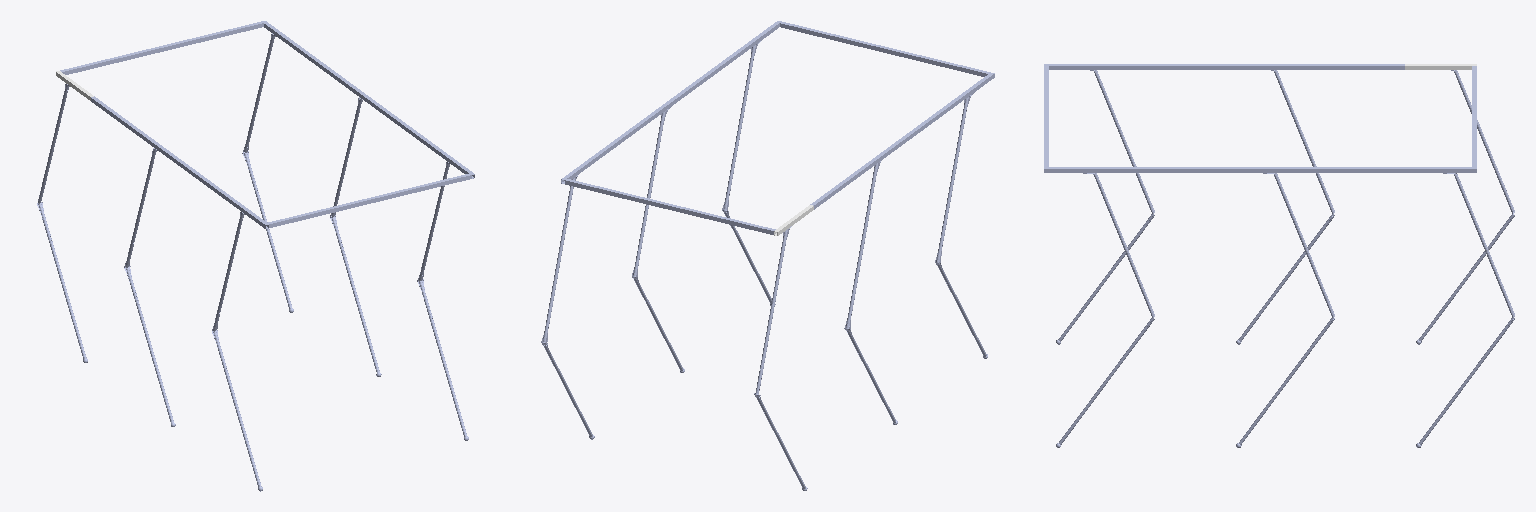
--- Render facts (derived) ---
3 views of the same robot in one strip: view 1: azimuth 30°, elevation 25°; view 2: azimuth 150°, elevation 25°; view 3: azimuth 270°, elevation 25° (orthographic).
Robot: robo_assemblyone — 50 links, 49 joints (12 revolute, 37 fixed); root link mid_right_chassis; default pose: all joints at 0.
Visible links, largest first — view 1: front_H_chassis, rear_H_chassis, front_right_chassis, mid_right_chassis, front_left_chassis, mid_left_chassis, front_right_tube_L, front_left_tube_L, mid_left_tube_L, rear_right_tube_L, mid_right_tube_L, rear_left_tube_L; view 2: rear_H_chassis, front_H_chassis, mid_left_chassis, front_right_chassis, mid_right_chassis, front_left_chassis, rear_right_tube_U, mid_right_tube_U, front_right_tube_U, front_left_tube_U, rear_left_tube_U, mid_left_tube_U; view 3: front_left_chassis, mid_right_chassis, mid_left_chassis, front_right_chassis, mid_left_tube_L, front_left_tube_L, rear_left_tube_L, mid_right_tube_L, front_left_tube_U, front_right_tube_L, rear_right_tube_L, rear_left_tube_U (+1 smaller).
Boxes of the visible links, bbox=[...] form: front_H_chassis: bbox=[268, 174, 470, 227]; rear_H_chassis: bbox=[60, 21, 263, 74]; front_right_chassis: bbox=[178, 160, 268, 228]; mid_right_chassis: bbox=[91, 96, 180, 164]; front_left_chassis: bbox=[384, 110, 474, 178]; mid_left_chassis: bbox=[297, 46, 386, 114]; front_right_tube_L: bbox=[213, 331, 261, 486]; front_left_tube_L: bbox=[419, 281, 466, 436]; mid_left_tube_L: bbox=[332, 217, 379, 372]; rear_right_tube_L: bbox=[38, 203, 86, 358]; mid_right_tube_L: bbox=[126, 267, 173, 422]; rear_left_tube_L: bbox=[244, 153, 291, 308]; rear_H_chassis: bbox=[565, 179, 775, 234]; front_H_chassis: bbox=[780, 22, 990, 76]; mid_left_chassis: bbox=[598, 87, 691, 157]; front_right_chassis: bbox=[901, 73, 994, 143]; mid_right_chassis: bbox=[810, 139, 903, 209]; front_left_chassis: bbox=[688, 21, 781, 90]; rear_right_tube_U: bbox=[755, 229, 787, 393]; mid_right_tube_U: bbox=[846, 163, 877, 327]; front_right_tube_U: bbox=[936, 97, 968, 261]; front_left_tube_U: bbox=[724, 45, 755, 209]; rear_left_tube_U: bbox=[543, 178, 574, 342]; mid_left_tube_U: bbox=[633, 111, 665, 275]; front_left_chassis: bbox=[1044, 167, 1224, 172]; mid_right_chassis: bbox=[1225, 64, 1404, 69]; mid_left_chassis: bbox=[1225, 167, 1404, 172]; front_right_chassis: bbox=[1044, 64, 1224, 69]; mid_left_tube_L: bbox=[1239, 317, 1334, 444]; front_left_tube_L: bbox=[1059, 317, 1154, 444]; rear_left_tube_L: bbox=[1419, 317, 1514, 444]; mid_right_tube_L: bbox=[1239, 214, 1334, 341]; front_left_tube_U: bbox=[1094, 173, 1154, 316]; front_right_tube_L: bbox=[1058, 214, 1154, 341]; rear_right_tube_L: bbox=[1419, 214, 1514, 340]; rear_left_tube_U: bbox=[1454, 173, 1514, 316].
Size in the robot's own frame: 2.1 by 3.92 by 2.57 metres.
Meshes: 50 distinct files referenced, 49 mesh visuals loaded (49 binary STL); not drawn: 1 (reference not matched to a file when rendering).

robot.urdf — robo_assemblyone:
<?xml version="1.0" encoding="utf-8"?>
<!-- This URDF was automatically created by SolidWorks to URDF Exporter! Originally created by Stephen Brawner ([email redacted]) 
     Commit Version: 1.6.0-4-g7f85cfe  Build Version: 1.6.7995.38578
     For more information, please see http://wiki.ros.org/sw_urdf_exporter -->
<robot
  name="robo_assemblyone">
  <link
    name="mid_right_chassis">
    <inertial>
      <origin
        xyz="-1.01904958862805 0.450918359101978 2.5500260202222"
        rpy="0 0 0" />
      <mass
        value="0.664323169148694" />
      <inertia
        ixx="0.124497537684337"
        ixy="1.03440379130301E-07"
        ixz="3.29978112885733E-09"
        iyy="0.000272415804836353"
        iyz="1.06181136709898E-05"
        izz="0.124497811349337" />
    </inertial>
    <visual>
      <origin
        xyz="0 0 0"
        rpy="0 0 0" />
      <geometry>
        <mesh
          filename="package://robo_assemblyone/meshes/mid_right_chassis.STL" />
      </geometry>
      <material
        name="">
        <color
          rgba="0.792156862745098 0.819607843137255 0.933333333333333 1" />
      </material>
    </visual>
    <collision>
      <origin
        xyz="0 0 0"
        rpy="0 0 0" />
      <geometry>
        <mesh
          filename="package://robo_assemblyone/meshes/mid_right_chassis.STL" />
      </geometry>
    </collision>
  </link>
  <link
    name="mid_right_hinge_UU">
    <inertial>
      <origin
        xyz="-1.01905088535195 0.0593104196306042 2.52925907191912"
        rpy="0 0 0" />
      <mass
        value="0.0124075021216376" />
      <inertia
        ixx="2.15475302244514E-05"
        ixy="4.08560226235981E-09"
        ixz="3.50399838359902E-11"
        iyy="2.48420344050463E-06"
        iyz="4.38826489428306E-07"
        izz="2.39156461358389E-05" />
    </inertial>
    <visual>
      <origin
        xyz="0 0 0"
        rpy="0 0 0" />
      <geometry>
        <mesh
          filename="package://robo_assemblyone/meshes/mid_right_hinge_UU.STL" />
      </geometry>
      <material
        name="">
        <color
          rgba="0.792156862745098 0.819607843137255 0.933333333333333 1" />
      </material>
    </visual>
    <collision>
      <origin
        xyz="0 0 0"
        rpy="0 0 0" />
      <geometry>
        <mesh
          filename="package://robo_assemblyone/meshes/mid_right_hinge_UU.STL" />
      </geometry>
    </collision>
  </link>
  <joint
    name="mid_right_hinge_UU_j"
    type="fixed">
    <origin
      xyz="0 0 0"
      rpy="0 0 0" />
    <parent
      link="mid_right_chassis" />
    <child
      link="mid_right_hinge_UU" />
    <axis
      xyz="0 0 0" />
  </joint>
  <link
    name="mid_right_hinge_UL">
    <inertial>
      <origin
        xyz="-1.0188129526235 0.131925176611832 2.48445803928536"
        rpy="0 0 0" />
      <mass
        value="0.0149562464353173" />
      <inertia
        ixx="2.77382899483782E-05"
        ixy="6.53537754436471E-08"
        ixz="-1.41295041733475E-07"
        iyy="2.61494553327382E-05"
        iyz="9.67138676781449E-06"
        izz="6.47197939431066E-06" />
    </inertial>
    <visual>
      <origin
        xyz="0 0 0"
        rpy="0 0 0" />
      <geometry>
        <mesh
          filename="package://robo_assemblyone/meshes/mid_right_hinge_UL.STL" />
      </geometry>
      <material
        name="">
        <color
          rgba="0.792156862745098 0.819607843137255 0.933333333333333 1" />
      </material>
    </visual>
    <collision>
      <origin
        xyz="0 0 0"
        rpy="0 0 0" />
      <geometry>
        <mesh
          filename="package://robo_assemblyone/meshes/mid_right_hinge_UL.STL" />
      </geometry>
    </collision>
  </link>
  <joint
    name="mid_right_hinge_UL_j"
    type="revolute">
    <origin
      xyz="0 0 0"
      rpy="0 0 0" />
    <parent
      link="mid_right_hinge_UU" />
    <child
      link="mid_right_hinge_UL" />
    <axis
      xyz="1 0 0" />
    <limit
      lower="-0.5"
      upper="0.5"
      effort="100"
      velocity="0.5" />
  </joint>
  <link
    name="mid_right_tube_U">
    <inertial>
      <origin
        xyz="-1.01905295856905 0.364582967396966 1.86626920283355"
        rpy="0 0 0" />
      <mass
        value="0.182771131041912" />
      <inertia
        ixx="0.0288040348370685"
        ixy="1.02559621876794E-10"
        ixz="9.55764910249999E-10"
        iyy="0.025315686421915"
        iyz="0.00938951254741977"
        izz="0.00352488886753978" />
    </inertial>
    <visual>
      <origin
        xyz="0 0 0"
        rpy="0 0 0" />
      <geometry>
        <mesh
          filename="package://robo_assemblyone/meshes/mid_right_tube_U.STL" />
      </geometry>
      <material
        name="">
        <color
          rgba="0.792156862745098 0.819607843137255 0.933333333333333 1" />
      </material>
    </visual>
    <collision>
      <origin
        xyz="0 0 0"
        rpy="0 0 0" />
      <geometry>
        <mesh
          filename="package://robo_assemblyone/meshes/mid_right_tube_U.STL" />
      </geometry>
    </collision>
  </link>
  <joint
    name="mid_right_tube_U_j"
    type="fixed">
    <origin
      xyz="0 0 0"
      rpy="0 0 0" />
    <parent
      link="mid_right_hinge_UL" />
    <child
      link="mid_right_tube_U" />
    <axis
      xyz="0 0 0" />
  </joint>
  <link
    name="mid_right_hinge_LU">
    <inertial>
      <origin
        xyz="-1.01905131096578 0.590645617295134 1.25148513763438"
        rpy="0 0 0" />
      <mass
        value="0.0124080543656936" />
      <inertia
        ixx="2.15480311497022E-05"
        ixy="1.42460076220506E-09"
        ixz="-3.74261469196305E-09"
        iyy="2.16045137129991E-05"
        iyz="6.66316691649574E-06"
        izz="4.79656411004929E-06" />
    </inertial>
    <visual>
      <origin
        xyz="0 0 0"
        rpy="0 0 0" />
      <geometry>
        <mesh
          filename="package://robo_assemblyone/meshes/mid_right_hinge_LU.STL" />
      </geometry>
      <material
        name="">
        <color
          rgba="0.792156862745098 0.819607843137255 0.933333333333333 1" />
      </material>
    </visual>
    <collision>
      <origin
        xyz="0 0 0"
        rpy="0 0 0" />
      <geometry>
        <mesh
          filename="package://robo_assemblyone/meshes/mid_right_hinge_LU.STL" />
      </geometry>
    </collision>
  </link>
  <joint
    name="mid_right_hinge_LU_j"
    type="fixed">
    <origin
      xyz="0 0 0"
      rpy="0 0 0" />
    <parent
      link="mid_right_tube_U" />
    <child
      link="mid_right_hinge_LU" />
    <axis
      xyz="0 0 0" />
  </joint>
  <link
    name="mid_right_hinge_LL">
    <inertial>
      <origin
        xyz="-1.01881238906514 0.583362371971656 1.16058737016415"
        rpy="0 0 0" />
      <mass
        value="0.0149300100783799" />
      <inertia
        ixx="2.77317572144237E-05"
        ixy="-7.69471574354078E-08"
        ixz="-1.35726939401194E-07"
        iyy="2.22963751213896E-05"
        iyz="-1.24251025267636E-05"
        izz="1.03187746917861E-05" />
    </inertial>
    <visual>
      <origin
        xyz="0 0 0"
        rpy="0 0 0" />
      <geometry>
        <mesh
          filename="package://robo_assemblyone/meshes/mid_right_hinge_LL.STL" />
      </geometry>
      <material
        name="">
        <color
          rgba="0.792156862745098 0.819607843137255 0.933333333333333 1" />
      </material>
    </visual>
    <collision>
      <origin
        xyz="0 0 0"
        rpy="0 0 0" />
      <geometry>
        <mesh
          filename="package://robo_assemblyone/meshes/mid_right_hinge_LL.STL" />
      </geometry>
    </collision>
  </link>
  <joint
    name="mid_right_hinge_LL_j"
    type="revolute">
    <origin
      xyz="0 0 0"
      rpy="0 0 0" />
    <parent
      link="mid_right_hinge_LU" />
    <child
      link="mid_right_hinge_LL" />
    <axis
      xyz="-1 0 0" />
    <limit
      lower="-0.5"
      upper="0.5"
      effort="100"
      velocity="0.5" />
  </joint>
  <link
    name="mid_right_tube_L">
    <inertial>
      <origin
        xyz="-1.01905401462191 0.210107997709998 0.60238159804898"
        rpy="0 0 0" />
      <mass
        value="0.185067675197643" />
      <inertia
        ixx="0.0297078291883953"
        ixy="1.92332160328527E-09"
        ixz="-3.37902681066349E-10"
        iyy="0.0204240923796497"
        iyz="-0.0137570481405995"
        izz="0.00932114600736387" />
    </inertial>
    <visual>
      <origin
        xyz="0 0 0"
        rpy="0 0 0" />
      <geometry>
        <mesh
          filename="package://robo_assemblyone/meshes/mid_right_tube_L.STL" />
      </geometry>
      <material
        name="">
        <color
          rgba="0.792156862745098 0.819607843137255 0.933333333333333 1" />
      </material>
    </visual>
    <collision>
      <origin
        xyz="0 0 0"
        rpy="0 0 0" />
      <geometry>
        <mesh
          filename="package://robo_assemblyone/meshes/mid_right_tube_L.STL" />
      </geometry>
    </collision>
  </link>
  <joint
    name="mid_right_tube_L_j"
    type="fixed">
    <origin
      xyz="0 0 0"
      rpy="0 0 0" />
    <parent
      link="mid_right_hinge_LL" />
    <child
      link="mid_right_tube_L" />
    <axis
      xyz="0 0 0" />
  </joint>
  <link
    name="mid_right_base">
    <inertial>
      <origin
        xyz="-1.01905399999999 -0.182860047845495 0.0200524252681242"
        rpy="0 0 0" />
      <mass
        value="0.00526659250823883" />
      <inertia
        ixx="1.57167590827313E-06"
        ixy="7.54737487274673E-23"
        ixz="1.11846537621423E-22"
        iyy="1.66436600945583E-06"
        iyz="1.37354397779592E-07"
        izz="1.7752168511426E-06" />
    </inertial>
    <visual>
      <origin
        xyz="0 0 0"
        rpy="0 0 0" />
      <geometry>
        <mesh
          filename="package://robo_assemblyone/meshes/mid_right_base.STL" />
      </geometry>
      <material
        name="">
        <color
          rgba="0.792156862745098 0.819607843137255 0.933333333333333 1" />
      </material>
    </visual>
    <collision>
      <origin
        xyz="0 0 0"
        rpy="0 0 0" />
      <geometry>
        <mesh
          filename="package://robo_assemblyone/meshes/mid_right_base.STL" />
      </geometry>
    </collision>
  </link>
  <joint
    name="mid_right_base_j"
    type="fixed">
    <origin
      xyz="0 0 0"
      rpy="0 0 0" />
    <parent
      link="mid_right_tube_L" />
    <child
      link="mid_right_base" />
    <axis
      xyz="0 0 0" />
  </joint>
  <link
    name="front_right_chassis">
    <inertial>
      <origin
        xyz="-1.01904958862805 -1.04908164089802 2.5500260202222"
        rpy="0 0 0" />
      <mass
        value="0.664323169148694" />
      <inertia
        ixx="0.124497537684337"
        ixy="1.03440379130024E-07"
        ixz="3.29978112885837E-09"
        iyy="0.000272415804836353"
        iyz="1.06181136709899E-05"
        izz="0.124497811349337" />
    </inertial>
    <visual>
      <origin
        xyz="0 0 0"
        rpy="0 0 0" />
      <geometry>
        <mesh
          filename="package://robo_assemblyone/meshes/front_right_chassis.STL" />
      </geometry>
      <material
        name="">
        <color
          rgba="0.792156862745098 0.819607843137255 0.933333333333333 1" />
      </material>
    </visual>
    <collision>
      <origin
        xyz="0 0 0"
        rpy="0 0 0" />
      <geometry>
        <mesh
          filename="package://robo_assemblyone/meshes/front_right_chassis.STL" />
      </geometry>
    </collision>
  </link>
  <joint
    name="front_right_chassis_j"
    type="fixed">
    <origin
      xyz="0 0 0"
      rpy="0 0 0" />
    <parent
      link="mid_right_chassis" />
    <child
      link="front_right_chassis" />
    <axis
      xyz="0 0 0" />
  </joint>
  <link
    name="front_right_hinge_UU">
    <inertial>
      <origin
        xyz="3.2407 0.020741 -0.62865"
        rpy="0 0 0" />
      <mass
        value="0.012408" />
      <inertia
        ixx="2.4842E-06"
        ixy="4.3883E-07"
        ixz="-4.0856E-09"
        iyy="2.3916E-05"
        iyz="-3.504E-11"
        izz="2.1548E-05" />
    </inertial>
    <visual>
      <origin
        xyz="0 0 0"
        rpy="0 0 0" />
      <geometry>
        <mesh
          filename="package://robo_assemblyone/meshes/front_right_hinge_UU.STL" />
      </geometry>
      <material
        name="">
        <color
          rgba="0.79216 0.81961 0.93333 1" />
      </material>
    </visual>
    <collision>
      <origin
        xyz="0 0 0"
        rpy="0 0 0" />
      <geometry>
        <mesh
          filename="package://robo_assemblyone/meshes/front_right_hinge_UU.STL" />
      </geometry>
    </collision>
  </link>
  <joint
    name="front_right_hinge_UU_j"
    type="fixed">
    <origin
      xyz="-0.3904 1.8 2.54999999999993"
      rpy="-1.5707963267949 0 -1.5707963267949" />
    <parent
      link="front_right_chassis" />
    <child
      link="front_right_hinge_UU" />
    <axis
      xyz="0 0 0" />
  </joint>
  <link
    name="front_right_hinge_UL">
    <inertial>
      <origin
        xyz="-1.01881295276112 -1.36807481872377 2.48445802704719"
        rpy="0 0 0" />
      <mass
        value="0.0149562489565371" />
      <inertia
        ixx="2.7738305323787E-05"
        ixy="6.53538296215077E-08"
        ixz="-1.41295179953754E-07"
        iyy="2.61494686866927E-05"
        iyz="9.67139193493774E-06"
        izz="6.47198136297934E-06" />
    </inertial>
    <visual>
      <origin
        xyz="0 0 0"
        rpy="0 0 0" />
      <geometry>
        <mesh
          filename="package://robo_assemblyone/meshes/front_right_hinge_UL.STL" />
      </geometry>
      <material
        name="">
        <color
          rgba="0.792156862745098 0.819607843137255 0.933333333333333 1" />
      </material>
    </visual>
    <collision>
      <origin
        xyz="0 0 0"
        rpy="0 0 0" />
      <geometry>
        <mesh
          filename="package://robo_assemblyone/meshes/front_right_hinge_UL.STL" />
      </geometry>
    </collision>
  </link>
  <joint
    name="front_right_hinge_UL_j"
    type="revolute">
    <origin
      xyz="1.8 2.54999999999993 0.3904"
      rpy="1.5707963267949 -1.5707963267949 0" />
    <parent
      link="front_right_hinge_UU" />
    <child
      link="front_right_hinge_UL" />
    <axis
      xyz="1 0 0" />
    <limit
      lower="-0.5"
      upper="0.5"
      effort="100"
      velocity="0.5" />
  </joint>
  <link
    name="front_right_tube_U">
    <inertial>
      <origin
        xyz="-1.01905295856906 -1.13541703358023 1.86626920247823"
        rpy="0 0 0" />
      <mass
        value="0.182771131041884" />
      <inertia
        ixx="0.0288040348348786"
        ixy="1.02559635126669E-10"
        ixz="9.55764863532397E-10"
        iyy="0.0253156864476459"
        iyz="0.00938951251461396"
        izz="0.00352488883961894" />
    </inertial>
    <visual>
      <origin
        xyz="0 0 0"
        rpy="0 0 0" />
      <geometry>
        <mesh
          filename="package://robo_assemblyone/meshes/front_right_tube_U.STL" />
      </geometry>
      <material
        name="">
        <color
          rgba="0.792156862745098 0.819607843137255 0.933333333333333 1" />
      </material>
    </visual>
    <collision>
      <origin
        xyz="0 0 0"
        rpy="0 0 0" />
      <geometry>
        <mesh
          filename="package://robo_assemblyone/meshes/front_right_tube_U.STL" />
      </geometry>
    </collision>
  </link>
  <joint
    name="front_right_tube_U_j"
    type="fixed">
    <origin
      xyz="0 0 0"
      rpy="0 0 0" />
    <parent
      link="front_right_hinge_UL" />
    <child
      link="front_right_tube_U" />
    <axis
      xyz="0 0 0" />
  </joint>
  <link
    name="front_right_hinge_LU">
    <inertial>
      <origin
        xyz="-1.0191 -0.90935 1.2515"
        rpy="0 0 0" />
      <mass
        value="0.012408" />
      <inertia
        ixx="2.1548E-05"
        ixy="1.4246E-09"
        ixz="-3.7426E-09"
        iyy="2.1605E-05"
        iyz="6.6632E-06"
        izz="4.7966E-06" />
    </inertial>
    <visual>
      <origin
        xyz="0 0 0"
        rpy="0 0 0" />
      <geometry>
        <mesh
          filename="package://robo_assemblyone/meshes/front_right_hinge_LU.STL" />
      </geometry>
      <material
        name="">
        <color
          rgba="0.79216 0.81961 0.93333 1" />
      </material>
    </visual>
    <collision>
      <origin
        xyz="0 0 0"
        rpy="0 0 0" />
      <geometry>
        <mesh
          filename="package://robo_assemblyone/meshes/front_right_hinge_LU.STL" />
      </geometry>
    </collision>
  </link>
  <joint
    name="front_right_hinge_LU_j"
    type="fixed">
    <origin
      xyz="0 0 0"
      rpy="0 0 0" />
    <parent
      link="front_right_tube_U" />
    <child
      link="front_right_hinge_LU" />
    <axis
      xyz="0 0 0" />
  </joint>
  <link
    name="front_right_hinge_LL">
    <inertial>
      <origin
        xyz="-1.01881238895647 -0.916637629379715 1.16058737041912"
        rpy="0 0 0" />
      <mass
        value="0.0149300118627485" />
      <inertia
        ixx="2.7731757510046E-05"
        ixy="-7.69471635966757E-08"
        ixz="-1.35726947664422E-07"
        iyy="2.22963747944102E-05"
        iyz="-1.24251026830661E-05"
        izz="1.03187743356159E-05" />
    </inertial>
    <visual>
      <origin
        xyz="0 0 0"
        rpy="0 0 0" />
      <geometry>
        <mesh
          filename="package://robo_assemblyone/meshes/front_right_hinge_LL.STL" />
      </geometry>
      <material
        name="">
        <color
          rgba="0.792156862745098 0.819607843137255 0.933333333333333 1" />
      </material>
    </visual>
    <collision>
      <origin
        xyz="0 0 0"
        rpy="0 0 0" />
      <geometry>
        <mesh
          filename="package://robo_assemblyone/meshes/front_right_hinge_LL.STL" />
      </geometry>
    </collision>
  </link>
  <joint
    name="front_right_hinge_LL_j"
    type="revolute">
    <origin
      xyz="0 0 0"
      rpy="0 0 0" />
    <parent
      link="front_right_hinge_LU" />
    <child
      link="front_right_hinge_LL" />
    <axis
      xyz="-1 0 0" />
    <limit
      lower="-0.5"
      upper="0.5"
      effort="100"
      velocity="0.5" />
  </joint>
  <link
    name="front_right_tube_L">
    <inertial>
      <origin
        xyz="-1.01905401462191 -1.2898920051266 0.602381597899897"
        rpy="0 0 0" />
      <mass
        value="0.185067675197643" />
      <inertia
        ixx="0.0297078291872728"
        ixy="1.92332160380997E-09"
        ixz="-3.37902688132913E-10"
        iyy="0.0204240923383626"
        iyz="-0.0137570481564283"
        izz="0.0093211460475284" />
    </inertial>
    <visual>
      <origin
        xyz="0 0 0"
        rpy="0 0 0" />
      <geometry>
        <mesh
          filename="package://robo_assemblyone/meshes/front_right_tube_L.STL" />
      </geometry>
      <material
        name="">
        <color
          rgba="0.792156862745098 0.819607843137255 0.933333333333333 1" />
      </material>
    </visual>
    <collision>
      <origin
        xyz="0 0 0"
        rpy="0 0 0" />
      <geometry>
        <mesh
          filename="package://robo_assemblyone/meshes/front_right_tube_L.STL" />
      </geometry>
    </collision>
  </link>
  <joint
    name="front_right_tube_L_j"
    type="fixed">
    <origin
      xyz="0 0 0"
      rpy="0 0 0" />
    <parent
      link="front_right_hinge_LL" />
    <child
      link="front_right_tube_L" />
    <axis
      xyz="0 0 0" />
  </joint>
  <link
    name="front_right_base">
    <inertial>
      <origin
        xyz="-1.019054 -1.68286005182839 0.0200524252697623"
        rpy="0 0 0" />
      <mass
        value="0.00526659250823869" />
      <inertia
        ixx="1.57167590827308E-06"
        ixy="1.6735813200145E-23"
        ixz="2.47803902844208E-23"
        iyy="1.66436600986032E-06"
        iyz="1.37354397942838E-07"
        izz="1.77521685073805E-06" />
    </inertial>
    <visual>
      <origin
        xyz="0 0 0"
        rpy="0 0 0" />
      <geometry>
        <mesh
          filename="package://robo_assemblyone/meshes/front_right_base.STL" />
      </geometry>
      <material
        name="">
        <color
          rgba="0.792156862745098 0.819607843137255 0.933333333333333 1" />
      </material>
    </visual>
    <collision>
      <origin
        xyz="0 0 0"
        rpy="0 0 0" />
      <geometry>
        <mesh
          filename="package://robo_assemblyone/meshes/front_right_base.STL" />
      </geometry>
    </collision>
  </link>
  <joint
    name="front_right_base_j"
    type="fixed">
    <origin
      xyz="0 0 0"
      rpy="0 0 0" />
    <parent
      link="front_right_tube_L" />
    <child
      link="front_right_base" />
    <axis
      xyz="0 0 0" />
  </joint>
  <link
    name="front_H_chassis">
    <inertial>
      <origin
        xyz="3.33066907387547E-15 -1.78095 2.54999999999993"
        rpy="0 0 0" />
      <mass
        value="0.887094999999992" />
      <inertia
        ixx="0.000363660529397912"
        ixy="3.51367122001287E-19"
        ixz="-1.59026852454419E-17"
        iyy="0.29588016359803"
        iyz="-2.07539418893581E-20"
        izz="0.29588016359803" />
    </inertial>
    <visual>
      <origin
        xyz="0 0 0"
        rpy="0 0 0" />
      <geometry>
        <mesh
          filename="package://robo_assemblyone/meshes/front_H_chassis.STL" />
      </geometry>
      <material
        name="">
        <color
          rgba="0.792156862745098 0.819607843137255 0.933333333333333 1" />
      </material>
    </visual>
    <collision>
      <origin
        xyz="0 0 0"
        rpy="0 0 0" />
      <geometry>
        <mesh
          filename="package://robo_assemblyone/meshes/front_H_chassis.STL" />
      </geometry>
    </collision>
  </link>
  <joint
    name="front_H_chassis_j"
    type="fixed">
    <origin
      xyz="0 0 0"
      rpy="0 0 0" />
    <parent
      link="front_right_chassis" />
    <child
      link="front_H_chassis" />
    <axis
      xyz="0 0 0" />
  </joint>
  <link
    name="front_left_chassis">
    <inertial>
      <origin
        xyz="1.0191 -1.0491 2.55"
        rpy="0 0 0" />
      <mass
        value="0.66432" />
      <inertia
        ixx="0.1245"
        ixy="1.0344E-07"
        ixz="3.2998E-09"
        iyy="0.00027242"
        iyz="1.0618E-05"
        izz="0.1245" />
    </inertial>
    <visual>
      <origin
        xyz="0 0 0"
        rpy="0 0 0" />
      <geometry>
        <mesh
          filename="package://robo_assemblyone/meshes/front_left_chassis.STL" />
      </geometry>
      <material
        name="">
        <color
          rgba="0.79216 0.81961 0.93333 1" />
      </material>
    </visual>
    <collision>
      <origin
        xyz="0 0 0"
        rpy="0 0 0" />
      <geometry>
        <mesh
          filename="package://robo_assemblyone/meshes/front_left_chassis.STL" />
      </geometry>
    </collision>
  </link>
  <joint
    name="front_left_chassis_j"
    type="fixed">
    <origin
      xyz="0 0 0"
      rpy="0 0 0" />
    <parent
      link="front_H_chassis" />
    <child
      link="front_left_chassis" />
    <axis
      xyz="0 0 0" />
  </joint>
  <link
    name="front_left_hinge_UU">
    <inertial>
      <origin
        xyz="1.019 -1.4407 2.5293"
        rpy="0 0 0" />
      <mass
        value="0.012408" />
      <inertia
        ixx="2.1548E-05"
        ixy="4.0856E-09"
        ixz="3.504E-11"
        iyy="2.4842E-06"
        iyz="4.3883E-07"
        izz="2.3916E-05" />
    </inertial>
    <visual>
      <origin
        xyz="0 0 0"
        rpy="0 0 0" />
      <geometry>
        <mesh
          filename="package://robo_assemblyone/meshes/front_left_hinge_UU.STL" />
      </geometry>
      <material
        name="">
        <color
          rgba="0.79216 0.81961 0.93333 1" />
      </material>
    </visual>
    <collision>
      <origin
        xyz="0 0 0"
        rpy="0 0 0" />
      <geometry>
        <mesh
          filename="package://robo_assemblyone/meshes/front_left_hinge_UU.STL" />
      </geometry>
    </collision>
  </link>
  <joint
    name="front_left_hinge_UU_j"
    type="fixed">
    <origin
      xyz="0 0 0"
      rpy="0 0 0" />
    <parent
      link="front_left_chassis" />
    <child
      link="front_left_hinge_UU" />
    <axis
      xyz="0 0 0" />
  </joint>
  <link
    name="front_left_hinge_UL">
    <inertial>
      <origin
        xyz="1.01928704723881 -1.36807481872265 2.48445802704774"
        rpy="0 0 0" />
      <mass
        value="0.0149562489565401" />
      <inertia
        ixx="2.77383053237921E-05"
        ixy="6.53538296214575E-08"
        ixz="-1.41295179953754E-07"
        iyy="2.61494686867022E-05"
        iyz="9.67139193493422E-06"
        izz="6.47198136297507E-06" />
    </inertial>
    <visual>
      <origin
        xyz="0 0 0"
        rpy="0 0 0" />
      <geometry>
        <mesh
          filename="package://robo_assemblyone/meshes/front_left_hinge_UL.STL" />
      </geometry>
      <material
        name="">
        <color
          rgba="0.792156862745098 0.819607843137255 0.933333333333333 1" />
      </material>
    </visual>
    <collision>
      <origin
        xyz="0 0 0"
        rpy="0 0 0" />
      <geometry>
        <mesh
          filename="package://robo_assemblyone/meshes/front_left_hinge_UL.STL" />
      </geometry>
    </collision>
  </link>
  <joint
    name="front_left_hinge_UL_j"
    type="revolute">
    <origin
      xyz="0 0 0"
      rpy="0 0 0" />
    <parent
      link="front_left_hinge_UU" />
    <child
      link="front_left_hinge_UL" />
    <axis
      xyz="1 0 0" />
    <limit
      lower="-0.5"
      upper="0.5"
      effort="100"
      velocity="0.5" />
  </joint>
  <link
    name="front_left_tube_U">
    <inertial>
      <origin
        xyz="1.01904704143088 -1.13541703357928 1.86626920247869"
        rpy="0 0 0" />
      <mass
        value="0.182771131041863" />
      <inertia
        ixx="0.0288040348348771"
        ixy="1.02559629888989E-10"
        ixz="9.55764876122744E-10"
        iyy="0.0253156864476499"
        iyz="0.0093895125146074"
        izz="0.00352488883961341" />
    </inertial>
    <visual>
      <origin
        xyz="0 0 0"
        rpy="0 0 0" />
      <geometry>
        <mesh
          filename="package://robo_assemblyone/meshes/front_left_tube_U.STL" />
      </geometry>
      <material
        name="">
        <color
          rgba="0.792156862745098 0.819607843137255 0.933333333333333 1" />
      </material>
    </visual>
    <collision>
      <origin
        xyz="0 0 0"
        rpy="0 0 0" />
      <geometry>
        <mesh
          filename="package://robo_assemblyone/meshes/front_left_tube_U.STL" />
      </geometry>
    </collision>
  </link>
  <joint
    name="front_left_tube_U_j"
    type="fixed">
    <origin
      xyz="0 0 0"
      rpy="0 0 0" />
    <parent
      link="front_left_hinge_UL" />
    <child
      link="front_left_tube_U" />
    <axis
      xyz="0 0 0" />
  </joint>
  <link
    name="front_left_hinge_LU">
    <inertial>
      <origin
        xyz="1.01904868903418 -0.90935438458095 1.25148513693114"
        rpy="0 0 0" />
      <mass
        value="0.0124080543656926" />
      <inertia
        ixx="2.15480311497011E-05"
        ixy="1.42460075677455E-09"
        ixz="-3.7426146945005E-09"
        iyy="2.16045137326273E-05"
        iyz="6.6631668917379E-06"
        izz="4.79656409041984E-06" />
    </inertial>
    <visual>
      <origin
        xyz="0 0 0"
        rpy="0 0 0" />
      <geometry>
        <mesh
          filename="package://robo_assemblyone/meshes/front_left_hinge_LU.STL" />
      </geometry>
      <material
        name="">
        <color
          rgba="0.792156862745098 0.819607843137255 0.933333333333333 1" />
      </material>
    </visual>
    <collision>
      <origin
        xyz="0 0 0"
        rpy="0 0 0" />
      <geometry>
        <mesh
          filename="package://robo_assemblyone/meshes/front_left_hinge_LU.STL" />
      </geometry>
    </collision>
  </link>
  <joint
    name="front_left_hinge_LU_j"
    type="fixed">
    <origin
      xyz="0 0 0"
      rpy="0 0 0" />
    <parent
      link="front_left_tube_U" />
    <child
      link="front_left_hinge_LU" />
    <axis
      xyz="0 0 0" />
  </joint>
  <link
    name="front_left_hinge_LL">
    <inertial>
      <origin
        xyz="1.01928761104351 -0.916637629378995 1.16058737041962"
        rpy="0 0 0" />
      <mass
        value="0.0149300118627532" />
      <inertia
        ixx="2.77317575100516E-05"
        ixy="-7.69471635967437E-08"
        ixz="-1.35726947664432E-07"
        iyy="2.22963747944045E-05"
        iyz="-1.24251026830724E-05"
        izz="1.03187743356279E-05" />
    </inertial>
    <visual>
      <origin
        xyz="0 0 0"
        rpy="0 0 0" />
      <geometry>
        <mesh
          filename="package://robo_assemblyone/meshes/front_left_hinge_LL.STL" />
      </geometry>
      <material
        name="">
        <color
          rgba="0.792156862745098 0.819607843137255 0.933333333333333 1" />
      </material>
    </visual>
    <collision>
      <origin
        xyz="0 0 0"
        rpy="0 0 0" />
      <geometry>
        <mesh
          filename="package://robo_assemblyone/meshes/front_left_hinge_LL.STL" />
      </geometry>
    </collision>
  </link>
  <joint
    name="front_left_hinge_LL_j"
    type="revolute">
    <origin
      xyz="0 0 0"
      rpy="0 0 0" />
    <parent
      link="front_left_hinge_LU" />
    <child
      link="front_left_hinge_LL" />
    <axis
      xyz="-1 0 0" />
    <limit
      lower="-0.5"
      upper="0.5"
      effort="100"
      velocity="0.5" />
  </joint>
  <link
    name="front_left_tube_L">
    <inertial>
      <origin
        xyz="1.01904598537803 -1.28989200512613 0.60238159790054"
        rpy="0 0 0" />
      <mass
        value="0.185067675197645" />
      <inertia
        ixx="0.0297078291872729"
        ixy="1.92332160620766E-09"
        ixz="-3.37902684214976E-10"
        iyy="0.0204240923383516"
        iyz="-0.013757048156433"
        izz="0.00932114604753944" />
    </inertial>
    <visual>
      <origin
        xyz="0 0 0"
        rpy="0 0 0" />
      <geometry>
        <mesh
          filename="package://robo_assemblyone/meshes/front_left_tube_L.STL" />
      </geometry>
      <material
        name="">
        <color
          rgba="0.792156862745098 0.819607843137255 0.933333333333333 1" />
      </material>
    </visual>
    <collision>
      <origin
        xyz="0 0 0"
        rpy="0 0 0" />
      <geometry>
        <mesh
          filename="package://robo_assemblyone/meshes/front_left_tube_L.STL" />
      </geometry>
    </collision>
  </link>
  <joint
    name="front_left_tube_L_j"
    type="fixed">
    <origin
      xyz="0 0 0"
      rpy="0 0 0" />
    <parent
      link="front_left_hinge_LL" />
    <child
      link="front_left_tube_L" />
    <axis
      xyz="0 0 0" />
  </joint>
  <link
    name="front_left_base">
    <inertial>
      <origin
        xyz="1.01904599999994 -1.68286005182795 0.0200524252708765"
        rpy="0 0 0" />
      <mass
        value="0.00526659250823878" />
      <inertia
        ixx="1.57167590827311E-06"
        ixy="6.98764716172851E-23"
        ixz="1.03549426819276E-22"
        iyy="1.66436600986045E-06"
        iyz="1.37354397942877E-07"
        izz="1.77521685073795E-06" />
    </inertial>
    <visual>
      <origin
        xyz="0 0 0"
        rpy="0 0 0" />
      <geometry>
        <mesh
          filename="package://robo_assemblyone/meshes/front_left_base.STL" />
      </geometry>
      <material
        name="">
        <color
          rgba="0.792156862745098 0.819607843137255 0.933333333333333 1" />
      </material>
    </visual>
    <collision>
      <origin
        xyz="0 0 0"
        rpy="0 0 0" />
      <geometry>
        <mesh
          filename="package://robo_assemblyone/meshes/front_left_base.STL" />
      </geometry>
    </collision>
  </link>
  <joint
    name="front_left_base_j"
    type="fixed">
    <origin
      xyz="0 0 0"
      rpy="0 0 0" />
    <parent
      link="front_left_tube_L" />
    <child
      link="front_left_base" />
    <axis
      xyz="0 0 0" />
  </joint>
  <link
    name="mid_left_chassis">
    <inertial>
      <origin
        xyz="1.01905041137195 0.450918359101979 2.5500260202222"
        rpy="0 0 0" />
      <mass
        value="0.664323169148684" />
      <inertia
        ixx="0.124497537684335"
        ixy="1.03440379130001E-07"
        ixz="3.29978112884356E-09"
        iyy="0.000272415804836349"
        iyz="1.06181136709885E-05"
        izz="0.124497811349336" />
    </inertial>
    <visual>
      <origin
        xyz="0 0 0"
        rpy="0 0 0" />
      <geometry>
        <mesh
          filename="package://robo_assemblyone/meshes/mid_left_chassis.STL" />
      </geometry>
      <material
        name="">
        <color
          rgba="0.792156862745098 0.819607843137255 0.933333333333333 1" />
      </material>
    </visual>
    <collision>
      <origin
        xyz="0 0 0"
        rpy="0 0 0" />
      <geometry>
        <mesh
          filename="package://robo_assemblyone/meshes/mid_left_chassis.STL" />
      </geometry>
    </collision>
  </link>
  <joint
    name="mid_left_chassis_j"
    type="fixed">
    <origin
      xyz="0 0 0"
      rpy="0 0 0" />
    <parent
      link="front_left_chassis" />
    <child
      link="mid_left_chassis" />
    <axis
      xyz="0 0 0" />
  </joint>
  <link
    name="mid_left_hinge_UU">
    <inertial>
      <origin
        xyz="1.01904911464804 0.0593104196306042 2.52925907191911"
        rpy="0 0 0" />
      <mass
        value="0.0124075021216381" />
      <inertia
        ixx="2.15475302244532E-05"
        ixy="4.08560226277614E-09"
        ixz="3.50399838246493E-11"
        iyy="2.48420344050468E-06"
        iyz="4.38826489428074E-07"
        izz="2.3915646135841E-05" />
    </inertial>
    <visual>
      <origin
        xyz="0 0 0"
        rpy="0 0 0" />
      <geometry>
        <mesh
          filename="package://robo_assemblyone/meshes/mid_left_hinge_UU.STL" />
      </geometry>
      <material
        name="">
        <color
          rgba="0.792156862745098 0.819607843137255 0.933333333333333 1" />
      </material>
    </visual>
    <collision>
      <origin
        xyz="0 0 0"
        rpy="0 0 0" />
      <geometry>
        <mesh
          filename="package://robo_assemblyone/meshes/mid_left_hinge_UU.STL" />
      </geometry>
    </collision>
  </link>
  <joint
    name="mid_left_hinge_UU_j"
    type="fixed">
    <origin
      xyz="0 0 0"
      rpy="0 0 0" />
    <parent
      link="mid_left_chassis" />
    <child
      link="mid_left_hinge_UU" />
    <axis
      xyz="0 0 0" />
  </joint>
  <link
    name="mid_left_hinge_UL">
    <inertial>
      <origin
        xyz="1.01928704723888 0.13192518127716 2.4844580270478"
        rpy="0 0 0" />
      <mass
        value="0.0149562489565409" />
      <inertia
        ixx="2.77383053237923E-05"
        ixy="6.53538296214323E-08"
        ixz="-1.41295179953746E-07"
        iyy="2.61494686867024E-05"
        iyz="9.6713919349343E-06"
        izz="6.4719813629752E-06" />
    </inertial>
    <visual>
      <origin
        xyz="0 0 0"
        rpy="0 0 0" />
      <geometry>
        <mesh
          filename="package://robo_assemblyone/meshes/mid_left_hinge_UL.STL" />
      </geometry>
      <material
        name="">
        <color
          rgba="0.792156862745098 0.819607843137255 0.933333333333333 1" />
      </material>
    </visual>
    <collision>
      <origin
        xyz="0 0 0"
        rpy="0 0 0" />
      <geometry>
        <mesh
          filename="package://robo_assemblyone/meshes/mid_left_hinge_UL.STL" />
      </geometry>
    </collision>
  </link>
  <joint
    name="mid_left_hinge_UL_j"
    type="revolute">
    <origin
      xyz="0 0 0"
      rpy="0 0 0" />
    <parent
      link="mid_left_hinge_UU" />
    <child
      link="mid_left_hinge_UL" />
    <axis
      xyz="1 0 0" />
    <limit
      lower="-0.5"
      upper="0.5"
      effort="100"
      velocity="0.5" />
  </joint>
  <link
    name="mid_left_tube_U">
    <inertial>
      <origin
        xyz="1.01904704143094 0.364582966420517 1.86626920247879"
        rpy="0 0 0" />
      <mass
        value="0.182771131041847" />
      <inertia
        ixx="0.0288040348348749"
        ixy="1.02559631457837E-10"
        ixz="9.55764872211818E-10"
        iyy="0.025315686447648"
        iyz="0.00938951251460667"
        izz="0.00352488883961306" />
    </inertial>
    <visual>
      <origin
        xyz="0 0 0"
        rpy="0 0 0" />
      <geometry>
        <mesh
          filename="package://robo_assemblyone/meshes/mid_left_tube_U.STL" />
      </geometry>
      <material
        name="">
        <color
          rgba="0.792156862745098 0.819607843137255 0.933333333333333 1" />
      </material>
    </visual>
    <collision>
      <origin
        xyz="0 0 0"
        rpy="0 0 0" />
      <geometry>
        <mesh
          filename="package://robo_assemblyone/meshes/mid_left_tube_U.STL" />
      </geometry>
    </collision>
  </link>
  <joint
    name="mid_left_tube_U_j"
    type="fixed">
    <origin
      xyz="0 0 0"
      rpy="0 0 0" />
    <parent
      link="mid_left_hinge_UL" />
    <child
      link="mid_left_tube_U" />
    <axis
      xyz="0 0 0" />
  </joint>
  <link
    name="mid_left_hinge_LU">
    <inertial>
      <origin
        xyz="1.01904868903421 0.590645615418862 1.25148513693118"
        rpy="0 0 0" />
      <mass
        value="0.0124080543656932" />
      <inertia
        ixx="2.15480311497013E-05"
        ixy="1.42460075676472E-09"
        ixz="-3.74261469425976E-09"
        iyy="2.16045137326279E-05"
        iyz="6.66316689173787E-06"
        izz="4.79656409042013E-06" />
    </inertial>
    <visual>
      <origin
        xyz="0 0 0"
        rpy="0 0 0" />
      <geometry>
        <mesh
          filename="package://robo_assemblyone/meshes/mid_left_hinge_LU.STL" />
      </geometry>
      <material
        name="">
        <color
          rgba="0.792156862745098 0.819607843137255 0.933333333333333 1" />
      </material>
    </visual>
    <collision>
      <origin
        xyz="0 0 0"
        rpy="0 0 0" />
      <geometry>
        <mesh
          filename="package://robo_assemblyone/meshes/mid_left_hinge_LU.STL" />
      </geometry>
    </collision>
  </link>
  <joint
    name="mid_left_hinge_LU_j"
    type="fixed">
    <origin
      xyz="0 0 0"
      rpy="0 0 0" />
    <parent
      link="mid_left_tube_U" />
    <child
      link="mid_left_hinge_LU" />
    <axis
      xyz="0 0 0" />
  </joint>
  <link
    name="mid_left_hinge_LL">
    <inertial>
      <origin
        xyz="1.01928761104353 0.583362370620837 1.16058737041962"
        rpy="0 0 0" />
      <mass
        value="0.0149300118627508" />
      <inertia
        ixx="2.77317575100478E-05"
        ixy="-7.69471635969107E-08"
        ixz="-1.35726947664714E-07"
        iyy="2.22963747944019E-05"
        iyz="-1.24251026830717E-05"
        izz="1.03187743356258E-05" />
    </inertial>
    <visual>
      <origin
        xyz="0 0 0"
        rpy="0 0 0" />
      <geometry>
        <mesh
          filename="package://robo_assemblyone/meshes/mid_left_hinge_LL.STL" />
      </geometry>
      <material
        name="">
        <color
          rgba="0.792156862745098 0.819607843137255 0.933333333333333 1" />
      </material>
    </visual>
    <collision>
      <origin
        xyz="0 0 0"
        rpy="0 0 0" />
      <geometry>
        <mesh
          filename="package://robo_assemblyone/meshes/mid_left_hinge_LL.STL" />
      </geometry>
    </collision>
  </link>
  <joint
    name="mid_left_hinge_LL_j"
    type="revolute">
    <origin
      xyz="0 0 0"
      rpy="0 0 0" />
    <parent
      link="mid_left_hinge_LU" />
    <child
      link="mid_left_hinge_LL" />
    <axis
      xyz="-1 0 0" />
    <limit
      lower="-0.5"
      upper="0.5"
      effort="100"
      velocity="0.5" />
  </joint>
  <link
    name="mid_left_tube_L">
    <inertial>
      <origin
        xyz="1.01904598537809 0.210107994873732 0.602381597900553"
        rpy="0 0 0" />
      <mass
        value="0.185067675197624" />
      <inertia
        ixx="0.0297078291872714"
        ixy="1.92332161057931E-09"
        ixz="-3.37902678304202E-10"
        iyy="0.0204240923383506"
        iyz="-0.0137570481564323"
        izz="0.00932114604753906" />
    </inertial>
    <visual>
      <origin
        xyz="0 0 0"
        rpy="0 0 0" />
      <geometry>
        <mesh
          filename="package://robo_assemblyone/meshes/mid_left_tube_L.STL" />
      </geometry>
      <material
        name="">
        <color
          rgba="0.792156862745098 0.819607843137255 0.933333333333333 1" />
      </material>
    </visual>
    <collision>
      <origin
        xyz="0 0 0"
        rpy="0 0 0" />
      <geometry>
        <mesh
          filename="package://robo_assemblyone/meshes/mid_left_tube_L.STL" />
      </geometry>
    </collision>
  </link>
  <joint
    name="mid_left_tube_L_j"
    type="fixed">
    <origin
      xyz="0 0 0"
      rpy="0 0 0" />
    <parent
      link="mid_left_hinge_LL" />
    <child
      link="mid_left_tube_L" />
    <axis
      xyz="0 0 0" />
  </joint>
  <link
    name="mid_left_base">
    <inertial>
      <origin
        xyz="1.019046 -0.182860051828272 0.0200524252706238"
        rpy="0 0 0" />
      <mass
        value="0.00526659250823878" />
      <inertia
        ixx="1.57167590827311E-06"
        ixy="6.98764716172851E-23"
        ixz="1.03549426819276E-22"
        iyy="1.66436600986045E-06"
        iyz="1.37354397942877E-07"
        izz="1.77521685073795E-06" />
    </inertial>
    <visual>
      <origin
        xyz="0 0 0"
        rpy="0 0 0" />
      <geometry>
        <mesh
          filename="package://robo_assemblyone/meshes/mid_left_base.STL" />
      </geometry>
      <material
        name="">
        <color
          rgba="0.792156862745098 0.819607843137255 0.933333333333333 1" />
      </material>
    </visual>
    <collision>
      <origin
        xyz="0 0 0"
        rpy="0 0 0" />
      <geometry>
        <mesh
          filename="package://robo_assemblyone/meshes/mid_left_base.STL" />
      </geometry>
    </collision>
  </link>
  <joint
    name="mid_left_base_j"
    type="fixed">
    <origin
      xyz="0 0 0"
      rpy="0 0 0" />
    <parent
      link="mid_left_tube_L" />
    <child
      link="mid_left_base" />
    <axis
      xyz="0 0 0" />
  </joint>
  <link
    name="rear_left_chassis">
    <inertial>
      <origin
        xyz="1.01905103075279 1.50060706291822 2.5500651974849"
        rpy="0 0 0" />
      <mass
        value="0.26513041914869" />
      <inertia
        ixx="0.00799926371863007"
        ixy="-1.96224566100888E-08"
        ixz="3.31048764448459E-09"
        iyy="0.000108767889226285"
        iyz="2.83410622335786E-06"
        izz="0.00799953806067319" />
    </inertial>
    <visual>
      <origin
        xyz="0 0 0"
        rpy="0 0 0" />
      <geometry>
        <mesh
          filename="package://robo_assemblyone/meshes/rear_left_chassis.STL" />
      </geometry>
      <material
        name="">
        <color
          rgba="0.792156862745098 0.819607843137255 0.933333333333333 1" />
      </material>
    </visual>
    <collision>
      <origin
        xyz="0 0 0"
        rpy="0 0 0" />
      <geometry>
        <mesh
          filename="package://robo_assemblyone/meshes/rear_left_chassis.STL" />
      </geometry>
    </collision>
  </link>
  <joint
    name="rear_left_chassis_j"
    type="fixed">
    <origin
      xyz="0 0 0"
      rpy="0 0 0" />
    <parent
      link="mid_left_chassis" />
    <child
      link="rear_left_chassis" />
    <axis
      xyz="0 0 0" />
  </joint>
  <link
    name="rear_left_hinge_UU">
    <inertial>
      <origin
        xyz="1.01904911464804 1.5593104196306 2.52925907191911"
        rpy="0 0 0" />
      <mass
        value="0.0124075021216377" />
      <inertia
        ixx="2.15475302244526E-05"
        ixy="4.08560226169684E-09"
        ixz="3.50399839464629E-11"
        iyy="2.48420344050472E-06"
        iyz="4.38826489428027E-07"
        izz="2.39156461358404E-05" />
    </inertial>
    <visual>
      <origin
        xyz="0 0 0"
        rpy="0 0 0" />
      <geometry>
        <mesh
          filename="package://robo_assemblyone/meshes/rear_left_hinge_UU.STL" />
      </geometry>
      <material
        name="">
        <color
          rgba="0.792156862745098 0.819607843137255 0.933333333333333 1" />
      </material>
    </visual>
    <collision>
      <origin
        xyz="0 0 0"
        rpy="0 0 0" />
      <geometry>
        <mesh
          filename="package://robo_assemblyone/meshes/rear_left_hinge_UU.STL" />
      </geometry>
    </collision>
  </link>
  <joint
    name="rear_left_hinge_UU_j"
    type="fixed">
    <origin
      xyz="0 0 0"
      rpy="0 0 0" />
    <parent
      link="rear_left_chassis" />
    <child
      link="rear_left_hinge_UU" />
    <axis
      xyz="0 0 0" />
  </joint>
  <link
    name="rear_left_hinge_UL">
    <inertial>
      <origin
        xyz="1.01928704723888 1.63192518127715 2.48445802704798"
        rpy="0 0 0" />
      <mass
        value="0.014956248956542" />
      <inertia
        ixx="2.77383053237938E-05"
        ixy="6.53538296214963E-08"
        ixz="-1.41295179953914E-07"
        iyy="2.61494686867039E-05"
        iyz="9.67139193493482E-06"
        izz="6.47198136297561E-06" />
    </inertial>
    <visual>
      <origin
        xyz="0 0 0"
        rpy="0 0 0" />
      <geometry>
        <mesh
          filename="package://robo_assemblyone/meshes/rear_left_hinge_UL.STL" />
      </geometry>
      <material
        name="">
        <color
          rgba="0.792156862745098 0.819607843137255 0.933333333333333 1" />
      </material>
    </visual>
    <collision>
      <origin
        xyz="0 0 0"
        rpy="0 0 0" />
      <geometry>
        <mesh
          filename="package://robo_assemblyone/meshes/rear_left_hinge_UL.STL" />
      </geometry>
    </collision>
  </link>
  <joint
    name="rear_left_hinge_UL_j"
    type="revolute">
    <origin
      xyz="0 0 0"
      rpy="0 0 0" />
    <parent
      link="rear_left_hinge_UU" />
    <child
      link="rear_left_hinge_UL" />
    <axis
      xyz="1 0 0" />
    <limit
      lower="-0.5"
      upper="0.5"
      effort="100"
      velocity="0.5" />
  </joint>
  <link
    name="rear_left_tube_U">
    <inertial>
      <origin
        xyz="1.01904704143094 1.86458296642052 1.86626920247894"
        rpy="0 0 0" />
      <mass
        value="0.182771131041871" />
      <inertia
        ixx="0.028804034834878"
        ixy="1.02559630062114E-10"
        ixz="9.55764876484424E-10"
        iyy="0.0253156864476508"
        iyz="0.00938951251460765"
        izz="0.00352488883961346" />
    </inertial>
    <visual>
      <origin
        xyz="0 0 0"
        rpy="0 0 0" />
      <geometry>
        <mesh
          filename="package://robo_assemblyone/meshes/rear_left_tube_U.STL" />
      </geometry>
      <material
        name="">
        <color
          rgba="0.792156862745098 0.819607843137255 0.933333333333333 1" />
      </material>
    </visual>
    <collision>
      <origin
        xyz="0 0 0"
        rpy="0 0 0" />
      <geometry>
        <mesh
          filename="package://robo_assemblyone/meshes/rear_left_tube_U.STL" />
      </geometry>
    </collision>
  </link>
  <joint
    name="rear_left_tube_U_j"
    type="fixed">
    <origin
      xyz="0 0 0"
      rpy="0 0 0" />
    <parent
      link="rear_left_hinge_UL" />
    <child
      link="rear_left_tube_U" />
    <axis
      xyz="0 0 0" />
  </joint>
  <link
    name="rear_left_hinge_LU">
    <inertial>
      <origin
        xyz="1.01904868903421 2.09064561541886 1.25148513693136"
        rpy="0 0 0" />
      <mass
        value="0.0124080543656941" />
      <inertia
        ixx="2.15480311497028E-05"
        ixy="1.42460075680353E-09"
        ixz="-3.74261469444835E-09"
        iyy="2.16045137326291E-05"
        iyz="6.66316689173822E-06"
        izz="4.79656409042017E-06" />
    </inertial>
    <visual>
      <origin
        xyz="0 0 0"
        rpy="0 0 0" />
      <geometry>
        <mesh
          filename="package://robo_assemblyone/meshes/rear_left_hinge_LU.STL" />
      </geometry>
      <material
        name="">
        <color
          rgba="0.792156862745098 0.819607843137255 0.933333333333333 1" />
      </material>
    </visual>
    <collision>
      <origin
        xyz="0 0 0"
        rpy="0 0 0" />
      <geometry>
        <mesh
          filename="package://robo_assemblyone/meshes/rear_left_hinge_LU.STL" />
      </geometry>
    </collision>
  </link>
  <joint
    name="rear_left_hinge_LU_j"
    type="fixed">
    <origin
      xyz="0 0 0"
      rpy="0 0 0" />
    <parent
      link="rear_left_tube_U" />
    <child
      link="rear_left_hinge_LU" />
    <axis
      xyz="0 0 0" />
  </joint>
  <link
    name="rear_left_hinge_LL">
    <inertial>
      <origin
        xyz="1.01928761104353 2.08336237062083 1.1605873704198"
        rpy="0 0 0" />
      <mass
        value="0.014930011862747" />
      <inertia
        ixx="2.77317575100445E-05"
        ixy="-7.69471635972882E-08"
        ixz="-1.35726947665315E-07"
        iyy="2.22963747943986E-05"
        iyz="-1.24251026830692E-05"
        izz="1.0318774335625E-05" />
    </inertial>
    <visual>
      <origin
        xyz="0 0 0"
        rpy="0 0 0" />
      <geometry>
        <mesh
          filename="package://robo_assemblyone/meshes/rear_left_hinge_LL.STL" />
      </geometry>
      <material
        name="">
        <color
          rgba="0.792156862745098 0.819607843137255 0.933333333333333 1" />
      </material>
    </visual>
    <collision>
      <origin
        xyz="0 0 0"
        rpy="0 0 0" />
      <geometry>
        <mesh
          filename="package://robo_assemblyone/meshes/rear_left_hinge_LL.STL" />
      </geometry>
    </collision>
  </link>
  <joint
    name="rear_left_hinge_LL_j"
    type="revolute">
    <origin
      xyz="0 0 0"
      rpy="0 0 0" />
    <parent
      link="rear_left_hinge_LU" />
    <child
      link="rear_left_hinge_LL" />
    <axis
      xyz="-1 0 0" />
    <limit
      lower="-0.5"
      upper="0.5"
      effort="100"
      velocity="0.5" />
  </joint>
  <link
    name="rear_left_tube_L">
    <inertial>
      <origin
        xyz="1.01904598537809 1.71010799487375 0.602381597900682"
        rpy="0 0 0" />
      <mass
        value="0.185067675197662" />
      <inertia
        ixx="0.029707829187274"
        ixy="1.92332160242193E-09"
        ixz="-3.37902690488772E-10"
        iyy="0.0204240923383524"
        iyz="-0.0137570481564336"
        izz="0.00932114604753981" />
    </inertial>
    <visual>
      <origin
        xyz="0 0 0"
        rpy="0 0 0" />
      <geometry>
        <mesh
          filename="package://robo_assemblyone/meshes/rear_left_tube_L.STL" />
      </geometry>
      <material
        name="">
        <color
          rgba="0.792156862745098 0.819607843137255 0.933333333333333 1" />
      </material>
    </visual>
    <collision>
      <origin
        xyz="0 0 0"
        rpy="0 0 0" />
      <geometry>
        <mesh
          filename="package://robo_assemblyone/meshes/rear_left_tube_L.STL" />
      </geometry>
    </collision>
  </link>
  <joint
    name="rear_left_tube_L_j"
    type="fixed">
    <origin
      xyz="0 0 0"
      rpy="0 0 0" />
    <parent
      link="rear_left_hinge_LL" />
    <child
      link="rear_left_tube_L" />
    <axis
      xyz="0 0 0" />
  </joint>
  <link
    name="rear_left_base">
    <inertial>
      <origin
        xyz="1.019046 1.31713994817178 0.0200524252708023"
        rpy="0 0 0" />
      <mass
        value="0.00526659250823883" />
      <inertia
        ixx="1.57167590827313E-06"
        ixy="6.98764716172855E-23"
        ixz="1.03549426819277E-22"
        iyy="1.66436600986047E-06"
        iyz="1.37354397942872E-07"
        izz="1.77521685073796E-06" />
    </inertial>
    <visual>
      <origin
        xyz="0 0 0"
        rpy="0 0 0" />
      <geometry>
        <mesh
          filename="package://robo_assemblyone/meshes/rear_left_base.STL" />
      </geometry>
      <material
        name="">
        <color
          rgba="0.792156862745098 0.819607843137255 0.933333333333333 1" />
      </material>
    </visual>
    <collision>
      <origin
        xyz="0 0 0"
        rpy="0 0 0" />
      <geometry>
        <mesh
          filename="package://robo_assemblyone/meshes/rear_left_base.STL" />
      </geometry>
    </collision>
  </link>
  <joint
    name="rear_left_base_j"
    type="fixed">
    <origin
      xyz="0 0 0"
      rpy="0 0 0" />
    <parent
      link="rear_left_tube_L" />
    <child
      link="rear_left_base" />
    <axis
      xyz="0 0 0" />
  </joint>
  <link
    name="rear_H_chassis">
    <inertial>
      <origin
        xyz="3.33066907387547E-15 1.78095 2.54999999999993"
        rpy="0 0 0" />
      <mass
        value="0.887095000000013" />
      <inertia
        ixx="0.000363660529397919"
        ixy="-1.29026743307269E-18"
        ixz="-1.56731957856012E-17"
        iyy="0.295880163598037"
        iyz="-2.50003001095333E-20"
        izz="0.295880163598037" />
    </inertial>
    <visual>
      <origin
        xyz="0 0 0"
        rpy="0 0 0" />
      <geometry>
        <mesh
          filename="package://robo_assemblyone/meshes/rear_H_chassis.STL" />
      </geometry>
      <material
        name="">
        <color
          rgba="0.792156862745098 0.819607843137255 0.933333333333333 1" />
      </material>
    </visual>
    <collision>
      <origin
        xyz="0 0 0"
        rpy="0 0 0" />
      <geometry>
        <mesh
          filename="package://robo_assemblyone/meshes/rear_H_chassis.STL" />
      </geometry>
    </collision>
  </link>
  <joint
    name="rear_H_chassis_j"
    type="fixed">
    <origin
      xyz="0 0 0"
      rpy="0 0 0" />
    <parent
      link="rear_left_chassis" />
    <child
      link="rear_H_chassis" />
    <axis
      xyz="0 0 0" />
  </joint>
  <link
    name="rear_right_chassis">
    <inertial>
      <origin
        xyz="0 0 0"
        rpy="0 0 0" />
      <mass
        value="0" />
      <inertia
        ixx="0"
        ixy="0"
        ixz="0"
        iyy="0"
        iyz="0"
        izz="0" />
    </inertial>
    <visual>
      <origin
        xyz="0 0 0"
        rpy="0 0 0" />
      <geometry>
        <mesh
          filename="package://robo_assemblyone/meshes/rear_right_chassis.STL" />
      </geometry>
      <material
        name="">
        <color
          rgba="1 1 1 1" />
      </material>
    </visual>
    <collision>
      <origin
        xyz="0 0 0"
        rpy="0 0 0" />
      <geometry>
        <mesh
          filename="package://robo_assemblyone/meshes/rear_right_chassis.STL" />
      </geometry>
    </collision>
  </link>
  <joint
    name="rear_right_chassis_j"
    type="fixed">
    <origin
      xyz="0 0 0"
      rpy="0 0 0" />
    <parent
      link="mid_right_chassis" />
    <child
      link="rear_right_chassis" />
    <axis
      xyz="0 0 0" />
  </joint>
  <link
    name="rear_right_hinge_UU">
    <inertial>
      <origin
        xyz="-1.01905088535195 1.5593104196306 2.52925907191912"
        rpy="0 0 0" />
      <mass
        value="0.0124075021216383" />
      <inertia
        ixx="2.15475302244529E-05"
        ixy="4.08560226153346E-09"
        ixz="3.50399840521018E-11"
        iyy="2.48420344050467E-06"
        iyz="4.38826489428149E-07"
        izz="2.39156461358406E-05" />
    </inertial>
    <visual>
      <origin
        xyz="0 0 0"
        rpy="0 0 0" />
      <geometry>
        <mesh
          filename="package://robo_assemblyone/meshes/rear_right_hinge_UU.STL" />
      </geometry>
      <material
        name="">
        <color
          rgba="0.792156862745098 0.819607843137255 0.933333333333333 1" />
      </material>
    </visual>
    <collision>
      <origin
        xyz="0 0 0"
        rpy="0 0 0" />
      <geometry>
        <mesh
          filename="package://robo_assemblyone/meshes/rear_right_hinge_UU.STL" />
      </geometry>
    </collision>
  </link>
  <joint
    name="rear_right_hinge_UU_j"
    type="fixed">
    <origin
      xyz="0 0 0"
      rpy="0 0 0" />
    <parent
      link="rear_right_chassis" />
    <child
      link="rear_right_hinge_UU" />
    <axis
      xyz="0 0 0" />
  </joint>
  <link
    name="rear_right_hinge_UL">
    <inertial>
      <origin
        xyz="-1.01881295262351 1.63192517660908 2.48445803929277"
        rpy="0 0 0" />
      <mass
        value="0.0149562464353106" />
      <inertia
        ixx="2.77382899355202E-05"
        ixy="6.5353775437596E-08"
        ixz="-1.41295041717211E-07"
        iyy="2.61494553215485E-05"
        iyz="9.67138676349039E-06"
        izz="6.47197939264147E-06" />
    </inertial>
    <visual>
      <origin
        xyz="0 0 0"
        rpy="0 0 0" />
      <geometry>
        <mesh
          filename="package://robo_assemblyone/meshes/rear_right_hinge_UL.STL" />
      </geometry>
      <material
        name="">
        <color
          rgba="0.792156862745098 0.819607843137255 0.933333333333333 1" />
      </material>
    </visual>
    <collision>
      <origin
        xyz="0 0 0"
        rpy="0 0 0" />
      <geometry>
        <mesh
          filename="package://robo_assemblyone/meshes/rear_right_hinge_UL.STL" />
      </geometry>
    </collision>
  </link>
  <joint
    name="rear_right_hinge_UL_j"
    type="revolute">
    <origin
      xyz="0 0 0"
      rpy="0 0 0" />
    <parent
      link="rear_right_hinge_UU" />
    <child
      link="rear_right_hinge_UL" />
    <axis
      xyz="1 0 0" />
    <limit
      lower="-0.5"
      upper="0.5"
      effort="100"
      velocity="0.5" />
  </joint>
  <link
    name="rear_right_tube_U">
    <inertial>
      <origin
        xyz="-1.01905295856905 1.86458296739119 1.866269202849"
        rpy="0 0 0" />
      <mass
        value="0.182771131041898" />
      <inertia
        ixx="0.028804034834874"
        ixy="1.02559634885052E-10"
        ixz="9.5576486023642E-10"
        iyy="0.0253156864199874"
        iyz="0.00938951254670266"
        izz="0.00352488886727283" />
    </inertial>
    <visual>
      <origin
        xyz="0 0 0"
        rpy="0 0 0" />
      <geometry>
        <mesh
          filename="package://robo_assemblyone/meshes/rear_right_tube_U.STL" />
      </geometry>
      <material
        name="">
        <color
          rgba="0.792156862745098 0.819607843137255 0.933333333333333 1" />
      </material>
    </visual>
    <collision>
      <origin
        xyz="0 0 0"
        rpy="0 0 0" />
      <geometry>
        <mesh
          filename="package://robo_assemblyone/meshes/rear_right_tube_U.STL" />
      </geometry>
    </collision>
  </link>
  <joint
    name="rear_right_tube_U_j"
    type="fixed">
    <origin
      xyz="0 0 0"
      rpy="0 0 0" />
    <parent
      link="rear_right_hinge_UL" />
    <child
      link="rear_right_tube_U" />
    <axis
      xyz="0 0 0" />
  </joint>
  <link
    name="rear_right_hinge_LU">
    <inertial>
      <origin
        xyz="-1.01881238906586 2.08336237200276 1.16058737020997"
        rpy="0 0 0" />
      <mass
        value="0.0149300101126432" />
      <inertia
        ixx="2.77317572300826E-05"
        ixy="-7.69471573205977E-08"
        ixz="-1.3572693923512E-07"
        iyy="2.22963751320344E-05"
        iyz="-1.24251025340891E-05"
        izz="1.03187746968897E-05" />
    </inertial>
    <visual>
      <origin
        xyz="0 0 0"
        rpy="0 0 0" />
      <geometry>
        <mesh
          filename="package://robo_assemblyone/meshes/rear_right_hinge_LU.STL" />
      </geometry>
      <material
        name="">
        <color
          rgba="0.792156862745098 0.819607843137255 0.933333333333333 1" />
      </material>
    </visual>
    <collision>
      <origin
        xyz="0 0 0"
        rpy="0 0 0" />
      <geometry>
        <mesh
          filename="package://robo_assemblyone/meshes/rear_right_hinge_LU.STL" />
      </geometry>
    </collision>
  </link>
  <joint
    name="rear_right_hinge_LU_j"
    type="fixed">
    <origin
      xyz="0 0 0"
      rpy="0 0 0" />
    <parent
      link="rear_right_tube_U" />
    <child
      link="rear_right_hinge_LU" />
    <axis
      xyz="0 0 0" />
  </joint>
  <link
    name="rear_right_hinge_LL">
    <inertial>
      <origin
        xyz="-1.01881238906586 2.08336237200276 1.16058737020997"
        rpy="0 0 0" />
      <mass
        value="0.0149300101126432" />
      <inertia
        ixx="2.77317572300827E-05"
        ixy="-7.69471573205979E-08"
        ixz="-1.3572693923512E-07"
        iyy="2.22963751320344E-05"
        iyz="-1.24251025340891E-05"
        izz="1.03187746968897E-05" />
    </inertial>
    <visual>
      <origin
        xyz="0 0 0"
        rpy="0 0 0" />
      <geometry>
        <mesh
          filename="package://robo_assemblyone/meshes/rear_right_hinge_LL.STL" />
      </geometry>
      <material
        name="">
        <color
          rgba="0.792156862745098 0.819607843137255 0.933333333333333 1" />
      </material>
    </visual>
    <collision>
      <origin
        xyz="0 0 0"
        rpy="0 0 0" />
      <geometry>
        <mesh
          filename="package://robo_assemblyone/meshes/rear_right_hinge_LL.STL" />
      </geometry>
    </collision>
  </link>
  <joint
    name="rear_right_hinge_LL_j"
    type="revolute">
    <origin
      xyz="0 0 0"
      rpy="0 0 0" />
    <parent
      link="rear_right_hinge_LU" />
    <child
      link="rear_right_hinge_LL" />
    <axis
      xyz="-1 0 0" />
    <limit
      lower="-0.5"
      upper="0.5"
      effort="100"
      velocity="0.5" />
  </joint>
  <link
    name="rear_right_tube_L">
    <inertial>
      <origin
        xyz="-1.01905401462191 1.71010799771017 0.602381598049495"
        rpy="0 0 0" />
      <mass
        value="0.185067675197639" />
      <inertia
        ixx="0.0297078291884477"
        ixy="1.92332160570767E-09"
        ixz="-3.37902677232982E-10"
        iyy="0.0204240923796869"
        iyz="-0.0137570481406233"
        izz="0.00932114600737894" />
    </inertial>
    <visual>
      <origin
        xyz="0 0 0"
        rpy="0 0 0" />
      <geometry>
        <mesh
          filename="package://robo_assemblyone/meshes/rear_right_tube_L.STL" />
      </geometry>
      <material
        name="">
        <color
          rgba="0.792156862745098 0.819607843137255 0.933333333333333 1" />
      </material>
    </visual>
    <collision>
      <origin
        xyz="0 0 0"
        rpy="0 0 0" />
      <geometry>
        <mesh
          filename="package://robo_assemblyone/meshes/rear_right_tube_L.STL" />
      </geometry>
    </collision>
  </link>
  <joint
    name="rear_right_tube_L_j"
    type="fixed">
    <origin
      xyz="0 0 0"
      rpy="0 0 0" />
    <parent
      link="rear_right_hinge_LL" />
    <child
      link="rear_right_tube_L" />
    <axis
      xyz="0 0 0" />
  </joint>
  <link
    name="rear_right_base">
    <inertial>
      <origin
        xyz="0.482860047845508 2.52994757473162 -0.628654000000006"
        rpy="0 0 0" />
      <mass
        value="0.0052665925082388" />
      <inertia
        ixx="1.66436600945581E-06"
        ixy="1.37354397779592E-07"
        ixz="-4.44722851416349E-23"
        iyy="1.77521685114261E-06"
        iyz="-6.58915914700885E-23"
        izz="1.57167590827311E-06" />
    </inertial>
    <visual>
      <origin
        xyz="0 0 0"
        rpy="0 0 0" />
      <geometry>
        <mesh
          filename="package://robo_assemblyone/meshes/rear_right_base.STL" />
      </geometry>
      <material
        name="">
        <color
          rgba="0.792156862745098 0.819607843137255 0.933333333333333 1" />
      </material>
    </visual>
    <collision>
      <origin
        xyz="0 0 0"
        rpy="0 0 0" />
      <geometry>
        <mesh
          filename="package://robo_assemblyone/meshes/rear_right_base.STL" />
      </geometry>
    </collision>
  </link>
  <joint
    name="rear_right_base_j"
    type="fixed">
    <origin
      xyz="-0.3904 1.8 2.54999999999993"
      rpy="-1.5707963267949 0 -1.5707963267949" />
    <parent
      link="rear_right_tube_L" />
    <child
      link="rear_right_base" />
    <axis
      xyz="0 0 0" />
  </joint>
</robot>
